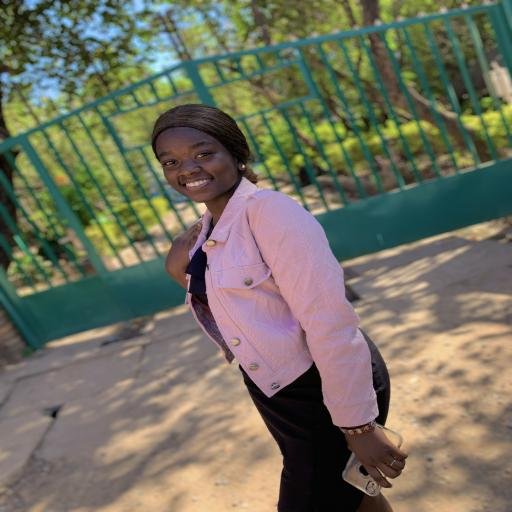LAURENE: (141, 101, 269, 214)
